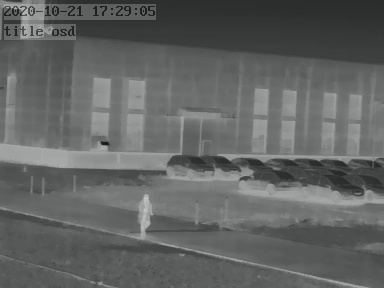person: (138, 192, 154, 235)
vehicle: (240, 169, 303, 194), (302, 175, 362, 199), (165, 153, 212, 178), (204, 153, 242, 177), (350, 173, 382, 200), (232, 154, 269, 171), (261, 155, 296, 169), (348, 156, 379, 170), (318, 156, 347, 169), (296, 156, 325, 169)
